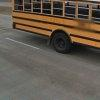Bus: (6, 1, 99, 51)
